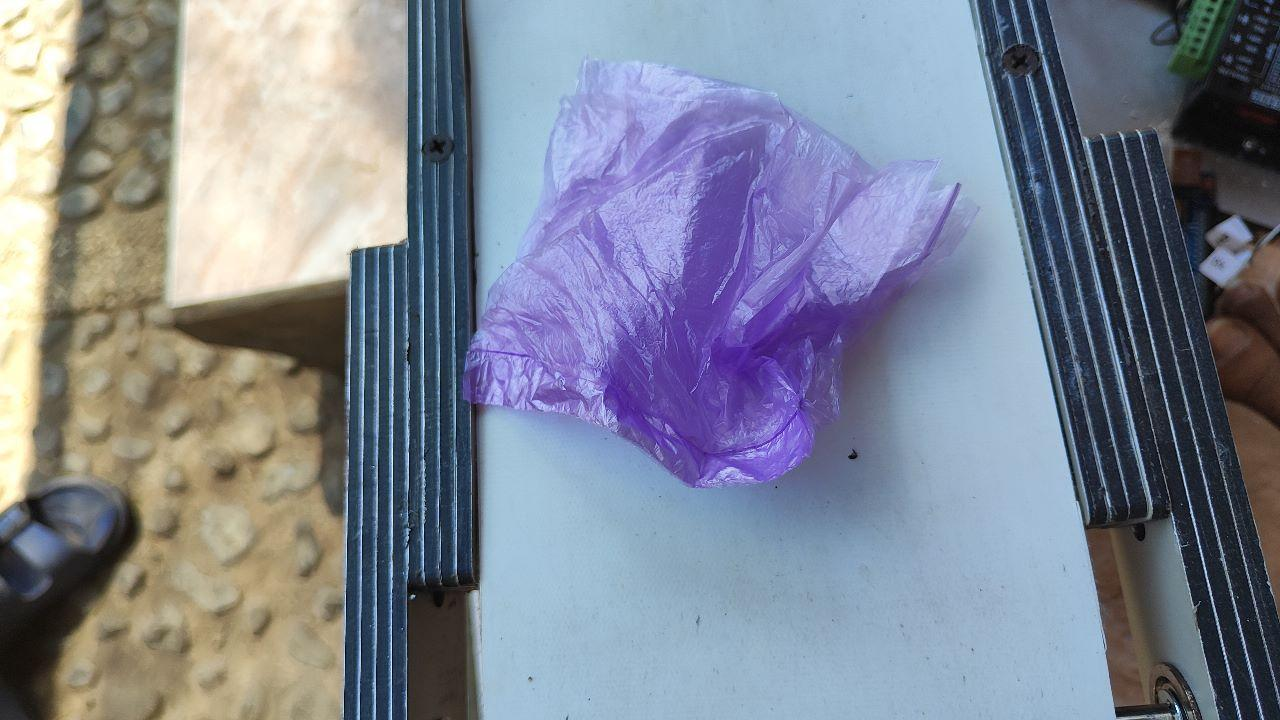Plastik: (458, 52, 984, 487)
